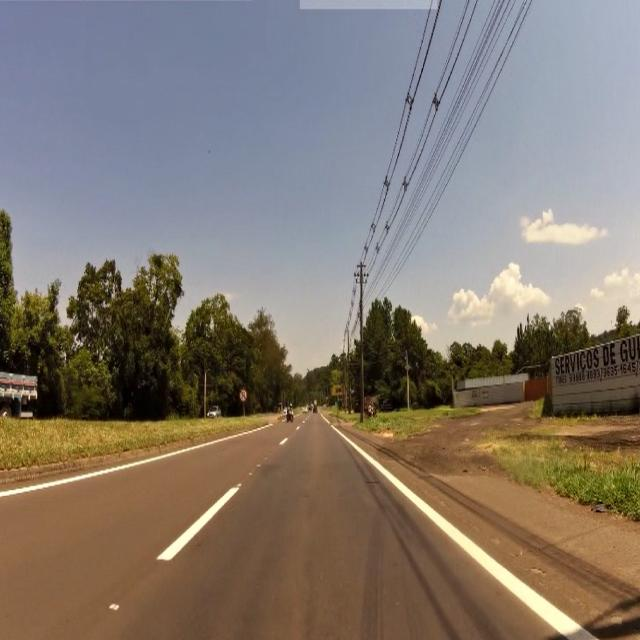R-5a: (241, 389, 248, 402)
